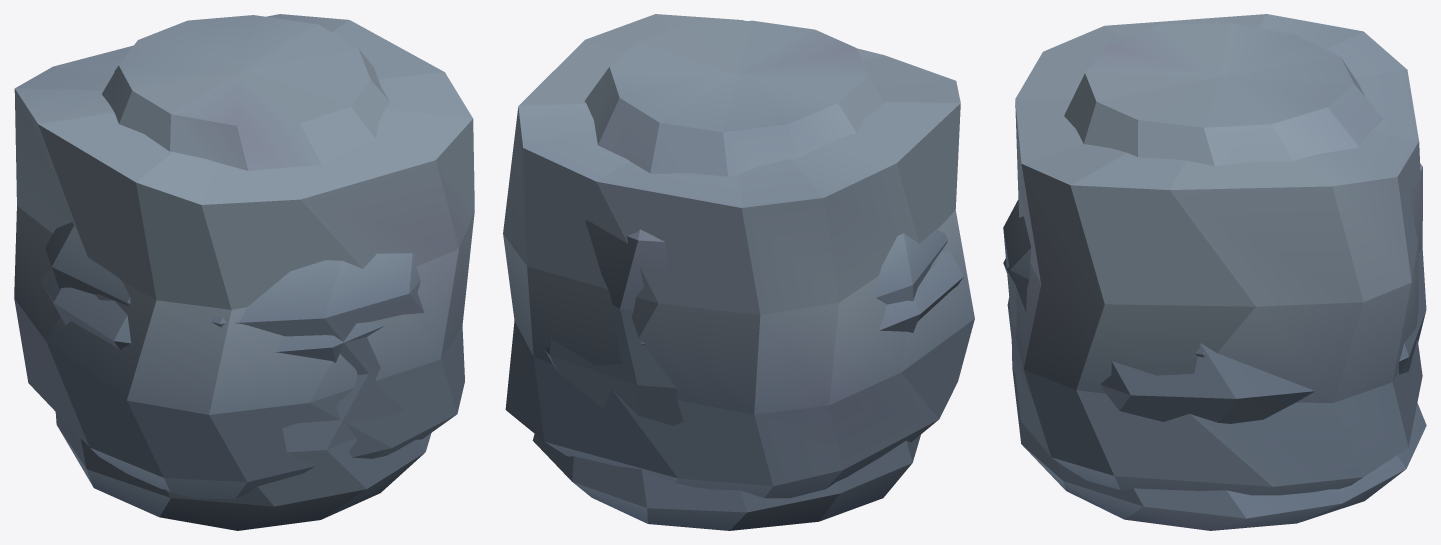
Rendered from world05-rock-kit-v2.glb.
The picture shows the model from 3 angles, left to right: view 1: azimuth 30°, elevation 25°; view 2: azimuth 150°, elevation 25°; view 3: azimuth 270°, elevation 25°; orthographic projection.
Visible parts, largest first — view 1: cave-ledge-mesh, cave-wall-mesh, cave-vault-mesh; view 2: cave-ledge-mesh, cave-wall-mesh, cave-vault-mesh; view 3: cave-ledge-mesh, cave-wall-mesh.
Boxes of the visible parts, x1,y1,x2,y2 form: cave-ledge-mesh: (14,14,474,498); cave-wall-mesh: (45,15,431,530); cave-vault-mesh: (40,268,385,362); cave-ledge-mesh: (503,14,974,498); cave-wall-mesh: (532,20,947,530); cave-vault-mesh: (640,251,963,344); cave-ledge-mesh: (1007,14,1422,495); cave-wall-mesh: (1003,23,1426,530).
Bounding box in the file's own units: 1.99 × 1.98 × 1.95.
